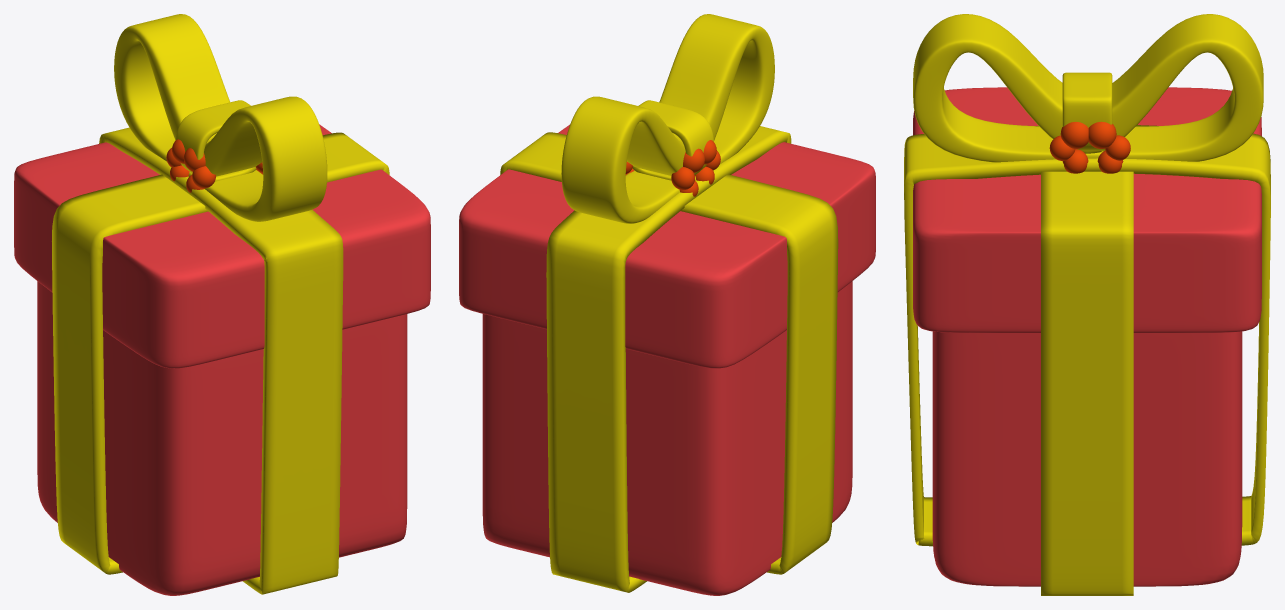
Rendered from gift.glb.
The picture shows the model from 3 angles, left to right: view 1: azimuth 30°, elevation 25°; view 2: azimuth 150°, elevation 25°; view 3: azimuth 270°, elevation 25°; orthographic projection. The views are drawn at different scales.
Visible parts, largest first — view 1: Cube, Cube.001, Cube.002, Cube.003, Cube.004, Cube.005; view 2: Cube, Cube.001, Cube.002, Cube.003, Cube.004, Cube.005; view 3: Cube, Cube.001, Cube.003, Cube.004, Cube.002, Cube.005, Sphere.009, Sphere.008.
Boxes of the visible parts, x1,y1,x2,y2 form: Cube: (37,281,407,595); Cube.001: (14,124,430,368); Cube.002: (99,127,343,594); Cube.003: (52,132,389,574); Cube.004: (114,14,327,221); Cube.005: (176,100,256,181); Cube: (482,281,852,595); Cube.001: (459,124,875,368); Cube.002: (546,126,791,592); Cube.003: (500,132,838,574); Cube.004: (561,14,774,223); Cube.005: (632,100,713,180); Cube: (932,331,1242,586); Cube.001: (913,87,1261,332); Cube.003: (1041,171,1133,595); Cube.004: (913,14,1263,162); Cube.002: (904,125,1270,546); Cube.005: (1062,72,1112,151); Sphere.009: (1088,121,1116,148); Sphere.008: (1060,122,1088,148).
Size of the model in its own units: 0.7104 by 1.07 by 0.7105.
